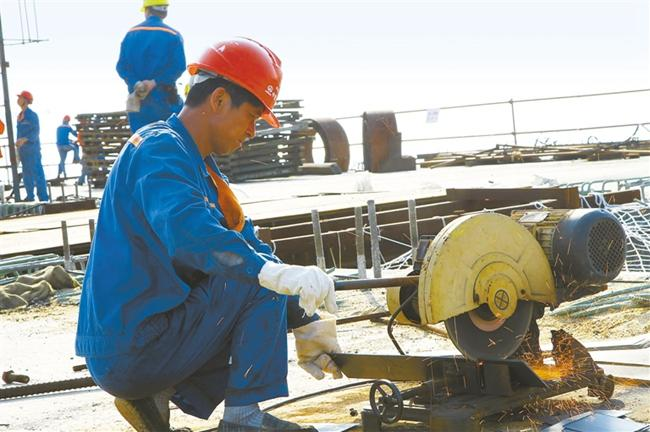helmet: (196, 35, 290, 126), (143, 1, 176, 21), (19, 92, 35, 103), (61, 115, 75, 125)
